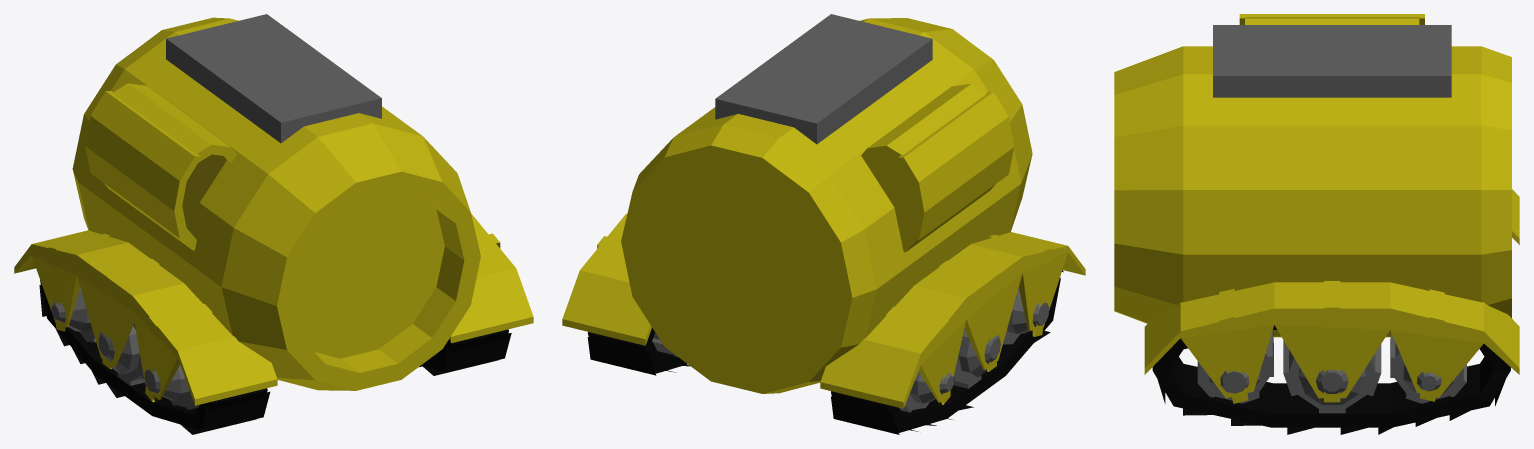
Rendered from drill.machine.2.fbx.
The picture shows the model from 3 angles, left to right: view 1: azimuth 30°, elevation 25°; view 2: azimuth 150°, elevation 25°; view 3: azimuth 270°, elevation 25°; orthographic projection. The views are drawn at different scales.
Parts seen in each view (by area): view 1: Cylinder, Cylinder.004, Cube, Cylinder.001, Cylinder.002, Cylinder.003, Cylinder.005; view 2: Cylinder, Cylinder.004, Cube, Cylinder.001, Cylinder.002, Cylinder.003; view 3: Cylinder, Cylinder.004, Cube, Cylinder.002, Cylinder.003, Cylinder.001.
Boxes of the visible parts, x1,y1,x2,y2 form: Cylinder: (72, 17, 480, 390); Cylinder.004: (14, 213, 533, 405); Cube: (166, 14, 381, 143); Cylinder.001: (85, 83, 236, 250); Cylinder.002: (34, 266, 511, 434); Cylinder.003: (51, 287, 199, 409); Cylinder.005: (182, 154, 226, 234); Cylinder: (621, 18, 1032, 393); Cylinder.004: (562, 213, 1085, 408); Cube: (715, 14, 932, 144); Cylinder.001: (861, 84, 1014, 252); Cylinder.002: (587, 270, 1063, 434); Cylinder.003: (652, 288, 1049, 412); Cylinder: (1114, 46, 1511, 337); Cylinder.004: (1144, 189, 1519, 403); Cube: (1213, 25, 1451, 97); Cylinder.002: (1152, 325, 1510, 434); Cylinder.003: (1197, 330, 1466, 413); Cylinder.001: (1239, 14, 1424, 24).
Size of the model in its own units: 277 by 227 by 272.
